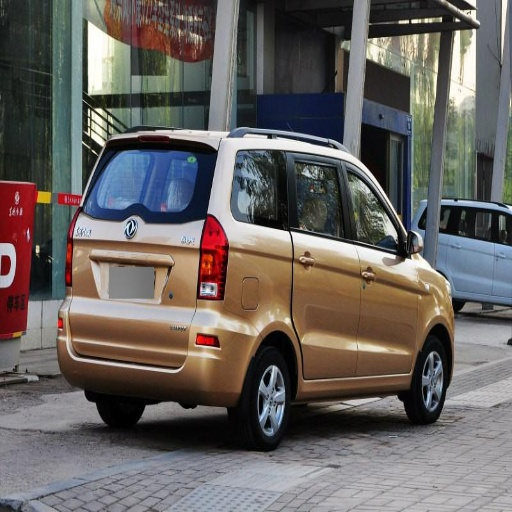back_bumper: (65, 334, 254, 400)
back_right_door: (233, 148, 361, 378)
trunk: (69, 215, 287, 363)
